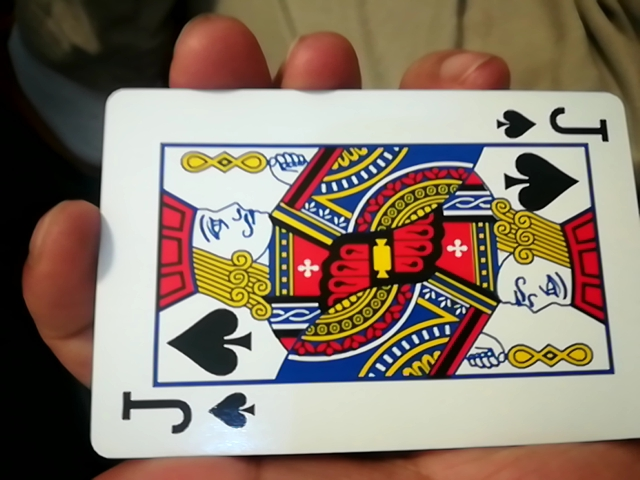ht j: (71, 87, 637, 467)
